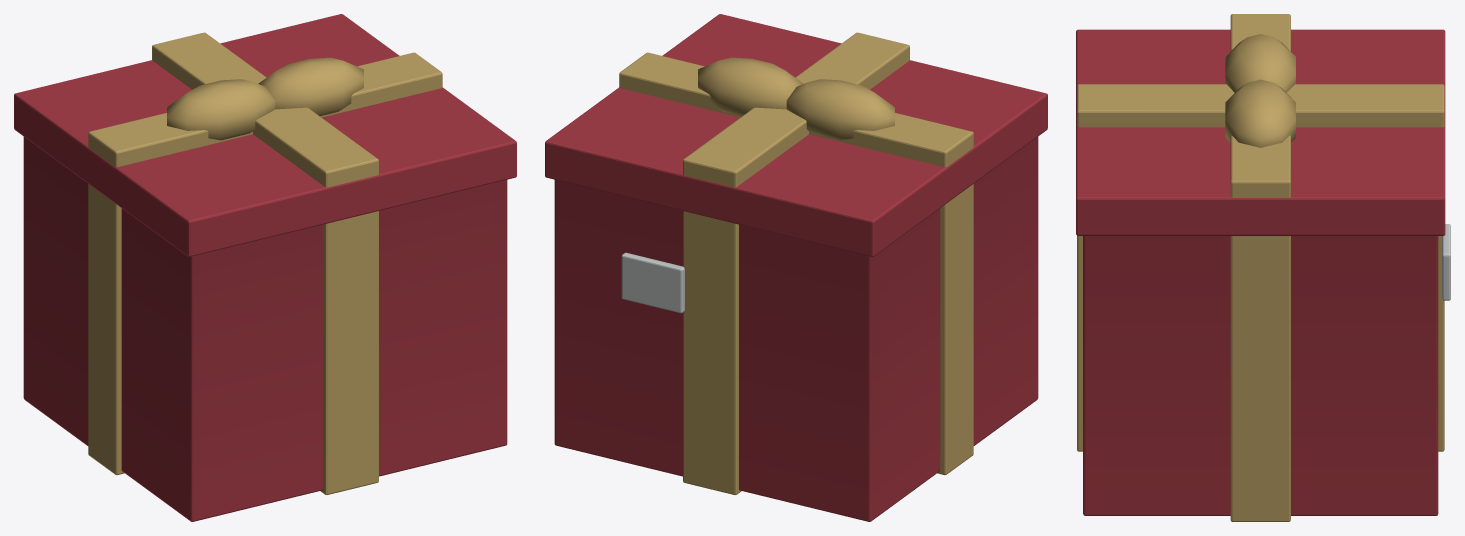
The model's file is gift_box_red.glb.
3 views of the same model, side by side, from view 1: azimuth 30°, elevation 25°; view 2: azimuth 150°, elevation 25°; view 3: azimuth 270°, elevation 25° (orthographic). The views are drawn at different scales.
Bounding box in the file's own units: 0.5408 × 0.552 × 0.5066.
